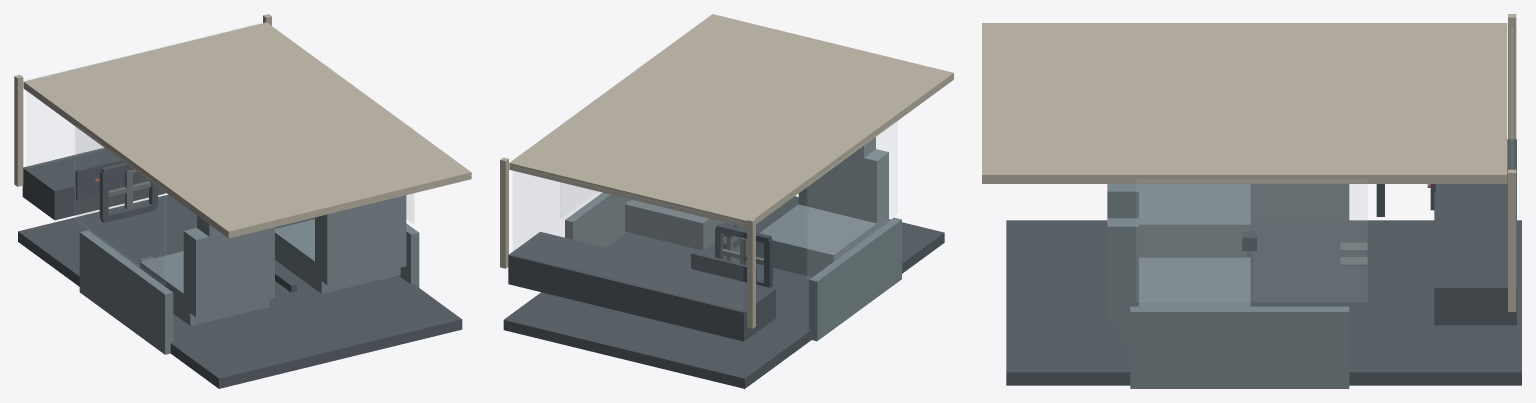
The model's file is sedan_cabin.glb.
3 renders of one model, left to right at view 1: azimuth 30°, elevation 25°; view 2: azimuth 150°, elevation 25°; view 3: azimuth 270°, elevation 25°, orthographic. The views are drawn at different scales.
Visible parts, largest first — view 1: body, glass_side_left, glass_windshield, steering_wheel; view 2: body, glass_windshield, glass_side_left, steering_wheel; view 3: body, glass_side_right, gear_lever.
Part boxes in pixels (box(x1,y1,x2,y2)): body: box(14, 14, 471, 388); glass_side_left: box(75, 125, 165, 284); glass_windshield: box(27, 23, 258, 167); steering_wheel: box(99, 162, 157, 222); body: box(500, 14, 953, 388); glass_windshield: box(513, 167, 742, 309); glass_side_left: box(807, 120, 896, 278); steering_wheel: box(715, 223, 772, 287); body: box(982, 14, 1521, 388); glass_side_right: box(1137, 180, 1366, 300); gear_lever: box(1242, 231, 1256, 297).
Size of the model in its own units: 1.55 by 0.98 by 2.22.
